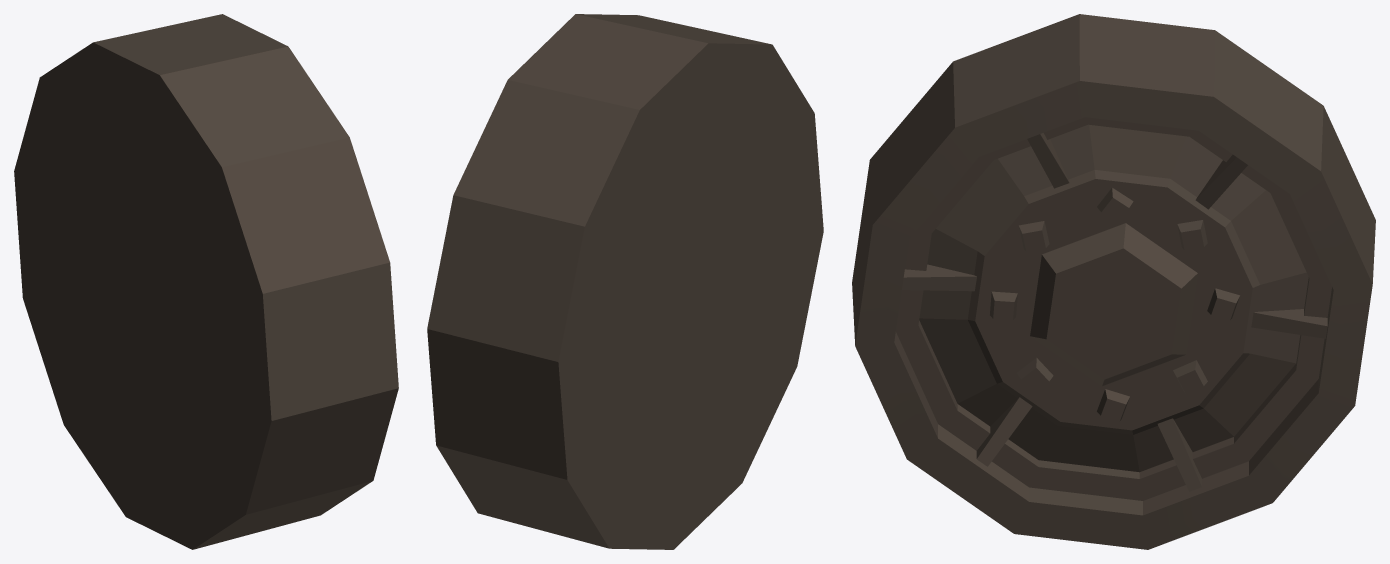
Rendered from SM_Veh_Excavator_02_Track_Wheel_fl.obj.
3 renders of one model, left to right at view 1: azimuth 30°, elevation 25°; view 2: azimuth 150°, elevation 25°; view 3: azimuth 270°, elevation 25°, orthographic. The views are drawn at different scales.
Visible parts, largest first — view 1: SM_Veh_Excavator_02_Track_Wheel_fl_0; view 2: SM_Veh_Excavator_02_Track_Wheel_fl_0; view 3: SM_Veh_Excavator_02_Track_Wheel_fl_0.
Part boxes in pixels (x1,y1,x2,y2): SM_Veh_Excavator_02_Track_Wheel_fl_0: [14, 14, 398, 549]; SM_Veh_Excavator_02_Track_Wheel_fl_0: [427, 14, 823, 549]; SM_Veh_Excavator_02_Track_Wheel_fl_0: [852, 14, 1375, 549].
Bounding box in the file's own units: 0.0843 × 0.2876 × 0.2876.
Materials: 1 (1 with a texture image).
